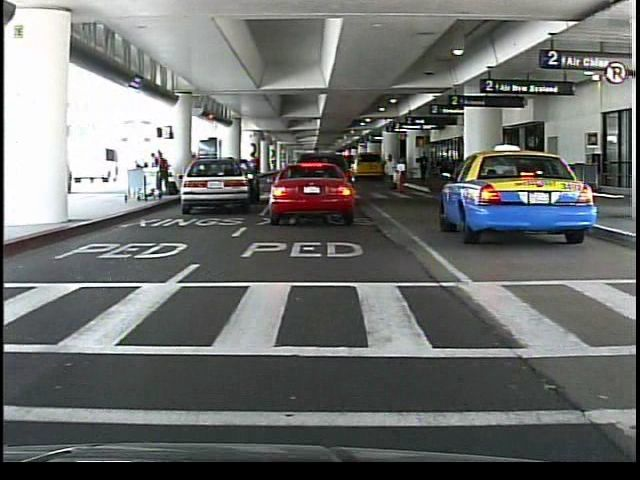person: (246, 152, 264, 201), (157, 147, 172, 196), (290, 160, 306, 204), (309, 152, 323, 202), (383, 152, 398, 190), (416, 149, 430, 184)
